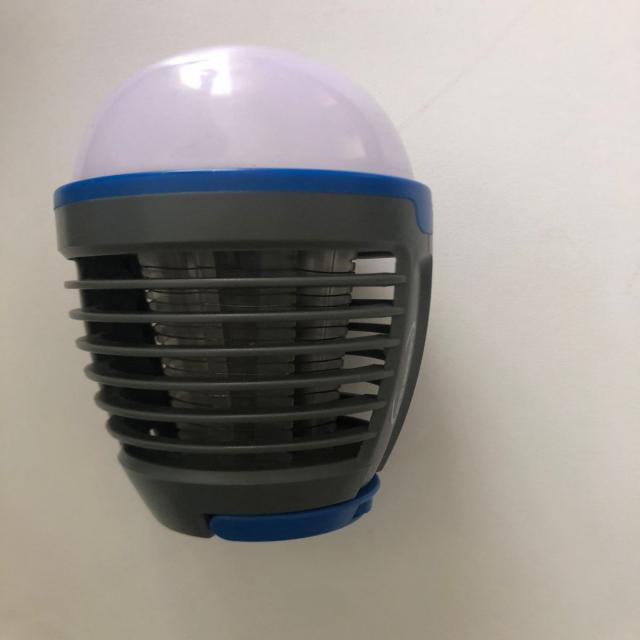Mosquito Killer: (52, 44, 436, 542)
